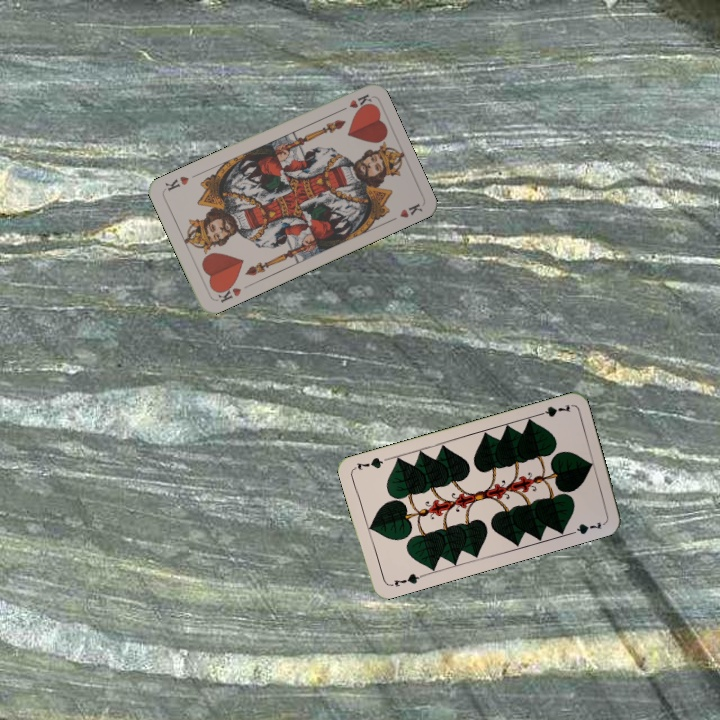G7: (533, 400, 573, 420), (385, 569, 425, 589)
HK: (334, 90, 374, 115), (212, 280, 244, 305)
